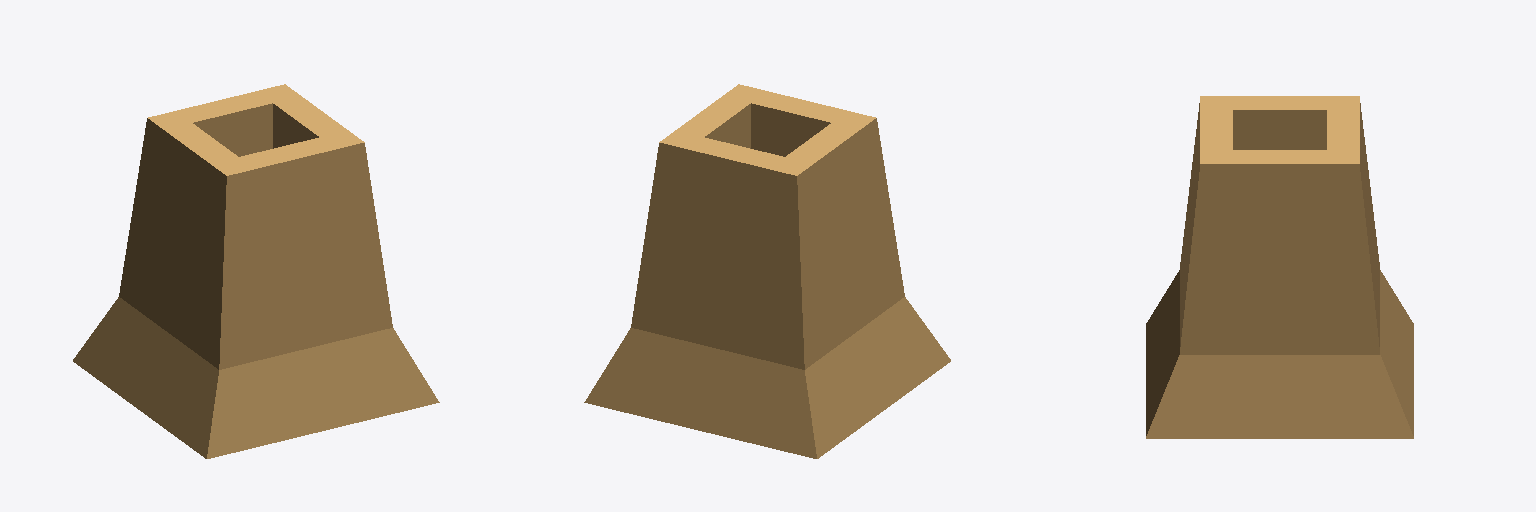
The picture shows the model from 3 angles: view 1: azimuth 30°, elevation 25°; view 2: azimuth 150°, elevation 25°; view 3: azimuth 270°, elevation 25°; orthographic projection.
Parts seen in each view (by area): view 1: Mesh1 Trunk Model; view 2: Mesh1 Trunk Model; view 3: Mesh1 Trunk Model.
Part boxes in pixels (x1,y1,x2,y2): Mesh1 Trunk Model: (73, 84, 439, 458); Mesh1 Trunk Model: (584, 84, 950, 458); Mesh1 Trunk Model: (1146, 96, 1413, 438).
Bounding box in the file's own units: 0.8037 × 0.83 × 0.8037.
1 materials, 1 textured.